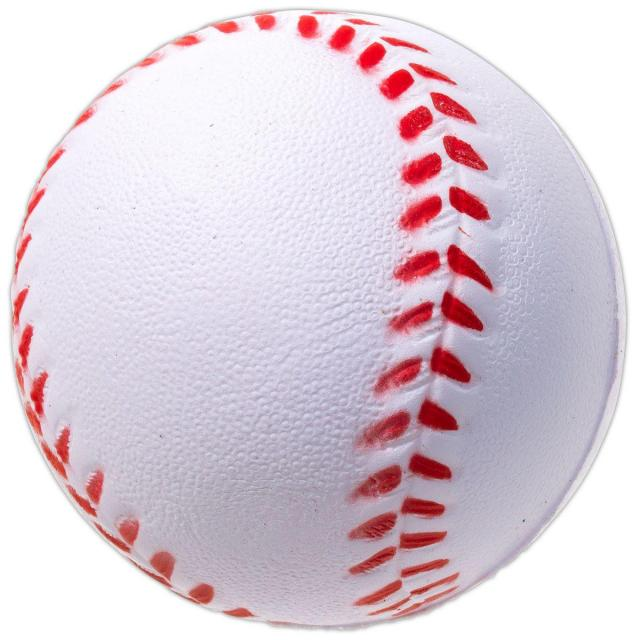baseball: (9, 5, 626, 633)
